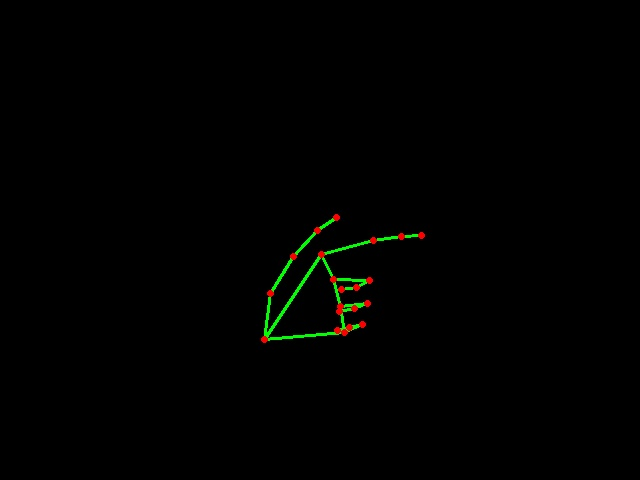left: (252, 195, 436, 351)
